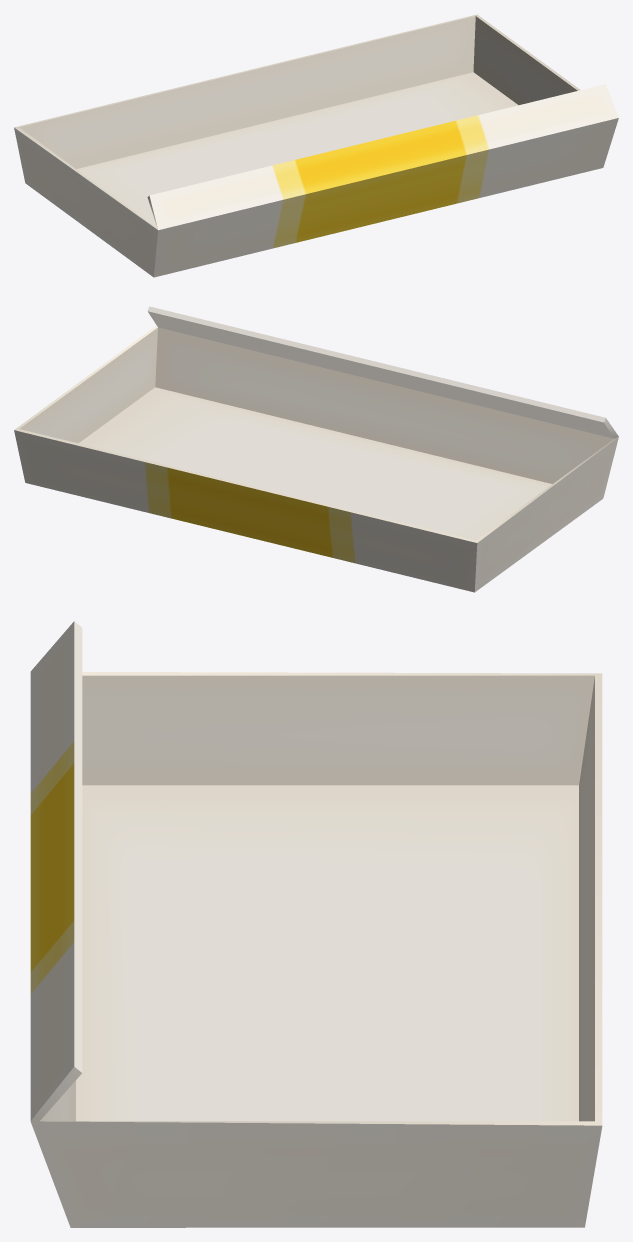
Rendered from fff_box_hotdog_bottom.FBX.
3 views of the same model, one above another, from view 1: azimuth 30°, elevation 25°; view 2: azimuth 150°, elevation 25°; view 3: azimuth 270°, elevation 25° (orthographic). The views are drawn at different scales.
Visible parts, largest first — view 1: fff_box_hotdog_bottom; view 2: fff_box_hotdog_bottom; view 3: fff_box_hotdog_bottom.
Part boxes in pixels (x1,y1,x2,y2): fff_box_hotdog_bottom: [14, 14, 618, 277]; fff_box_hotdog_bottom: [14, 306, 618, 592]; fff_box_hotdog_bottom: [30, 621, 602, 1227].
Size of the model in its own units: 11.65 by 1.98 by 6.23.
